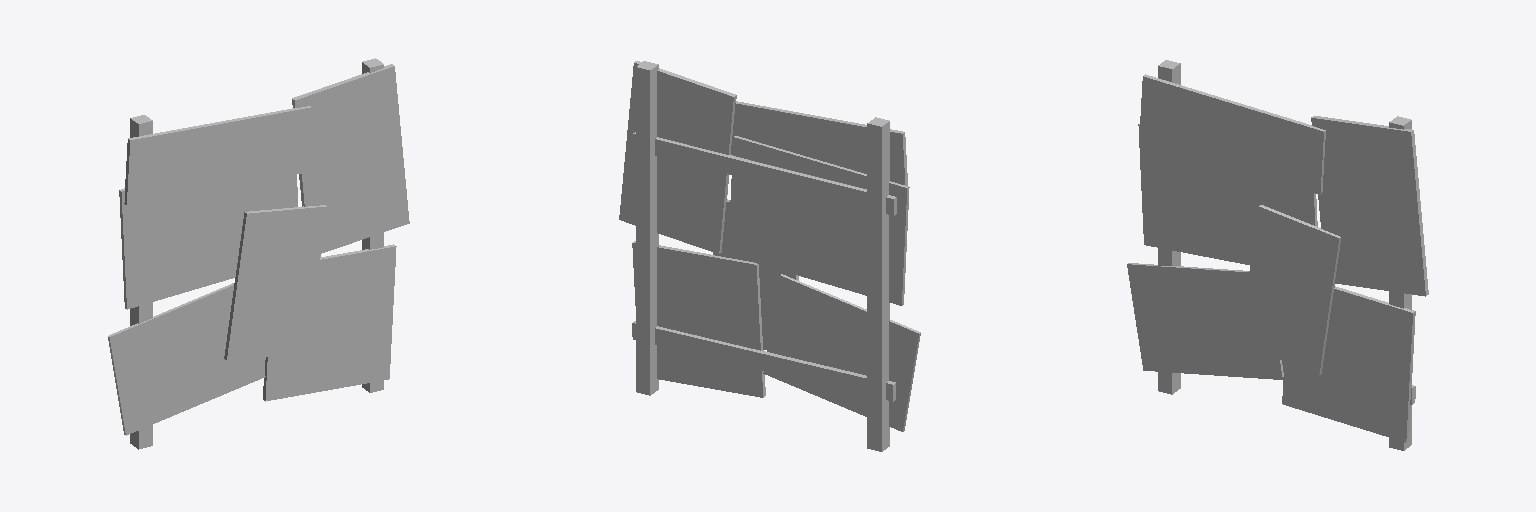
Rendered from Fence_Planes_Small.obj.
3 renders of one model, left to right at view 1: azimuth 30°, elevation 25°; view 2: azimuth 150°, elevation 25°; view 3: azimuth 330°, elevation 25°, orthographic.
Visible parts, largest first — view 1: Fence_Planes_Small_Cube.023; view 2: Fence_Planes_Small_Cube.023; view 3: Fence_Planes_Small_Cube.023.
Part boxes in pixels (bbox=[...]): Fence_Planes_Small_Cube.023: bbox=[108, 58, 409, 449]; Fence_Planes_Small_Cube.023: bbox=[619, 61, 920, 451]; Fence_Planes_Small_Cube.023: bbox=[1127, 60, 1428, 450].
Bounding box in the file's own units: 2.59 × 2.69 × 0.1786.